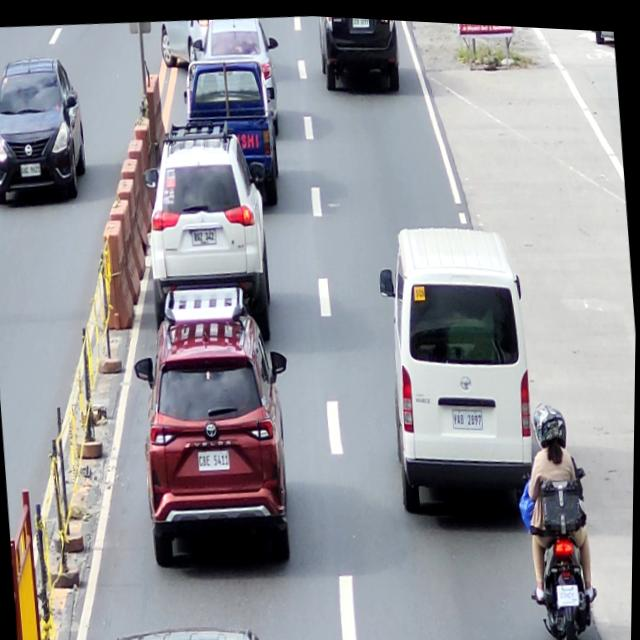Car: (125, 273, 306, 572), (372, 210, 543, 514), (137, 112, 277, 347), (178, 50, 283, 209), (0, 50, 90, 208), (186, 11, 285, 139), (316, 13, 402, 92), (107, 615, 270, 640), (158, 15, 212, 67), (589, 24, 614, 38)
License-Plate: (451, 401, 486, 430), (196, 444, 233, 471), (188, 223, 218, 246), (558, 576, 581, 602), (17, 159, 43, 179), (350, 14, 371, 26)
Motorcycle: (519, 448, 603, 640)
